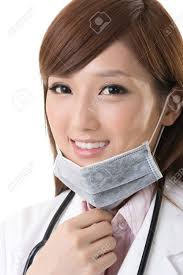mask_weared_incorrect: (46, 52, 183, 207)
